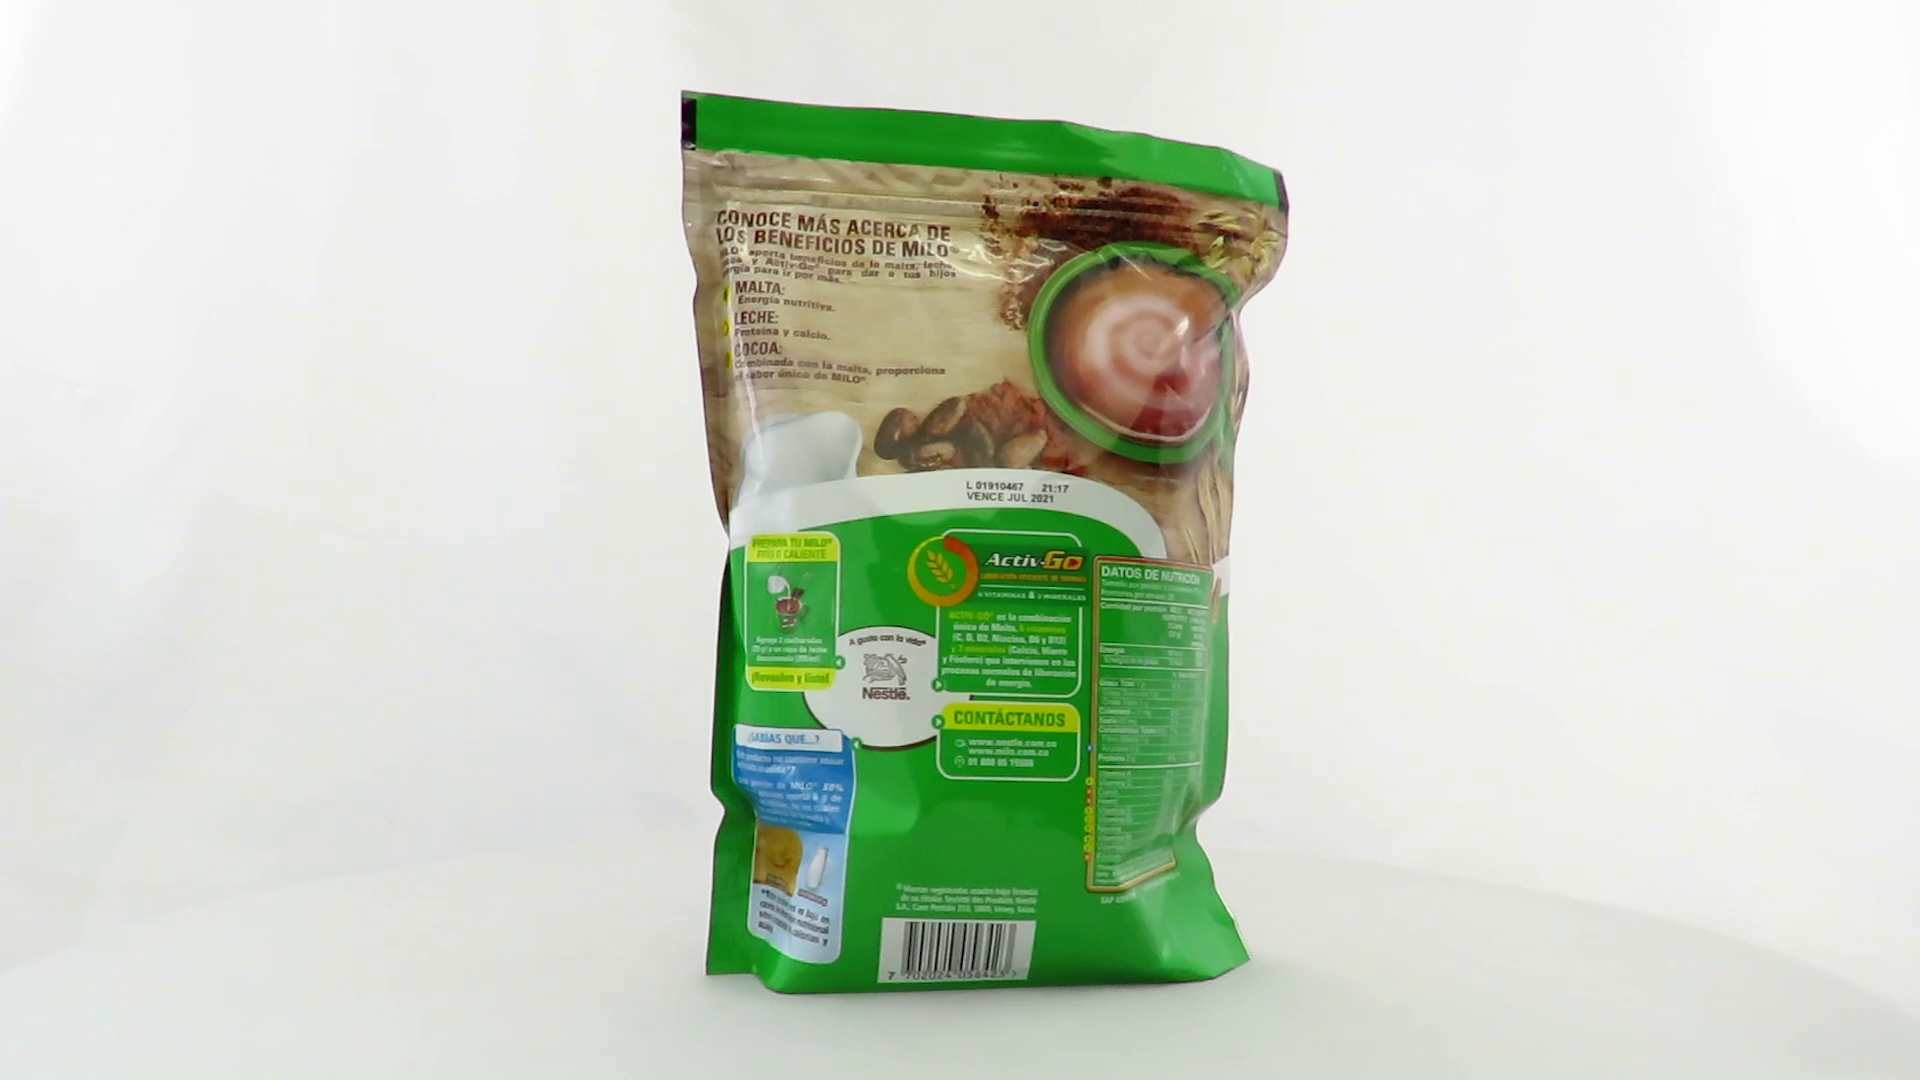COL0170205DYP50000: (675, 84, 1296, 1001)
